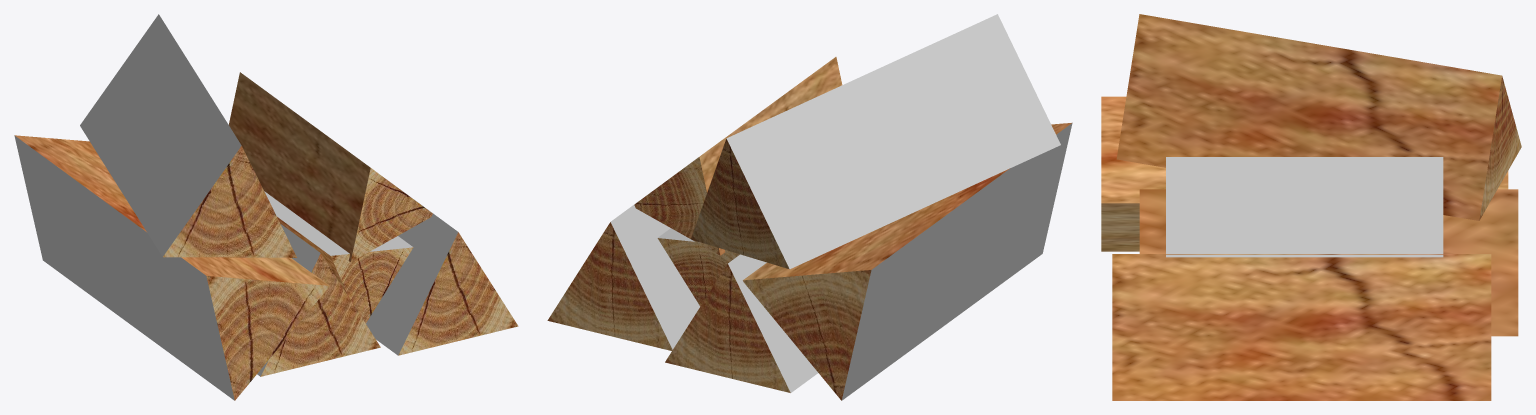
The model's file is log pile.fbx.
The picture shows the model from 3 angles, left to right: view 1: azimuth 30°, elevation 25°; view 2: azimuth 150°, elevation 25°; view 3: azimuth 270°, elevation 25°; orthographic projection. The views are drawn at different scales.
Visible parts, largest first — view 1: Cylinder; view 2: Cylinder; view 3: Cylinder.
Part boxes in pixels (<box>): Cylinder: <box>14,14,518,400</box>; Cylinder: <box>547,14,1072,400</box>; Cylinder: <box>1101,14,1521,400</box>.
Bounding box in the file's own units: 480 × 325 × 494.
